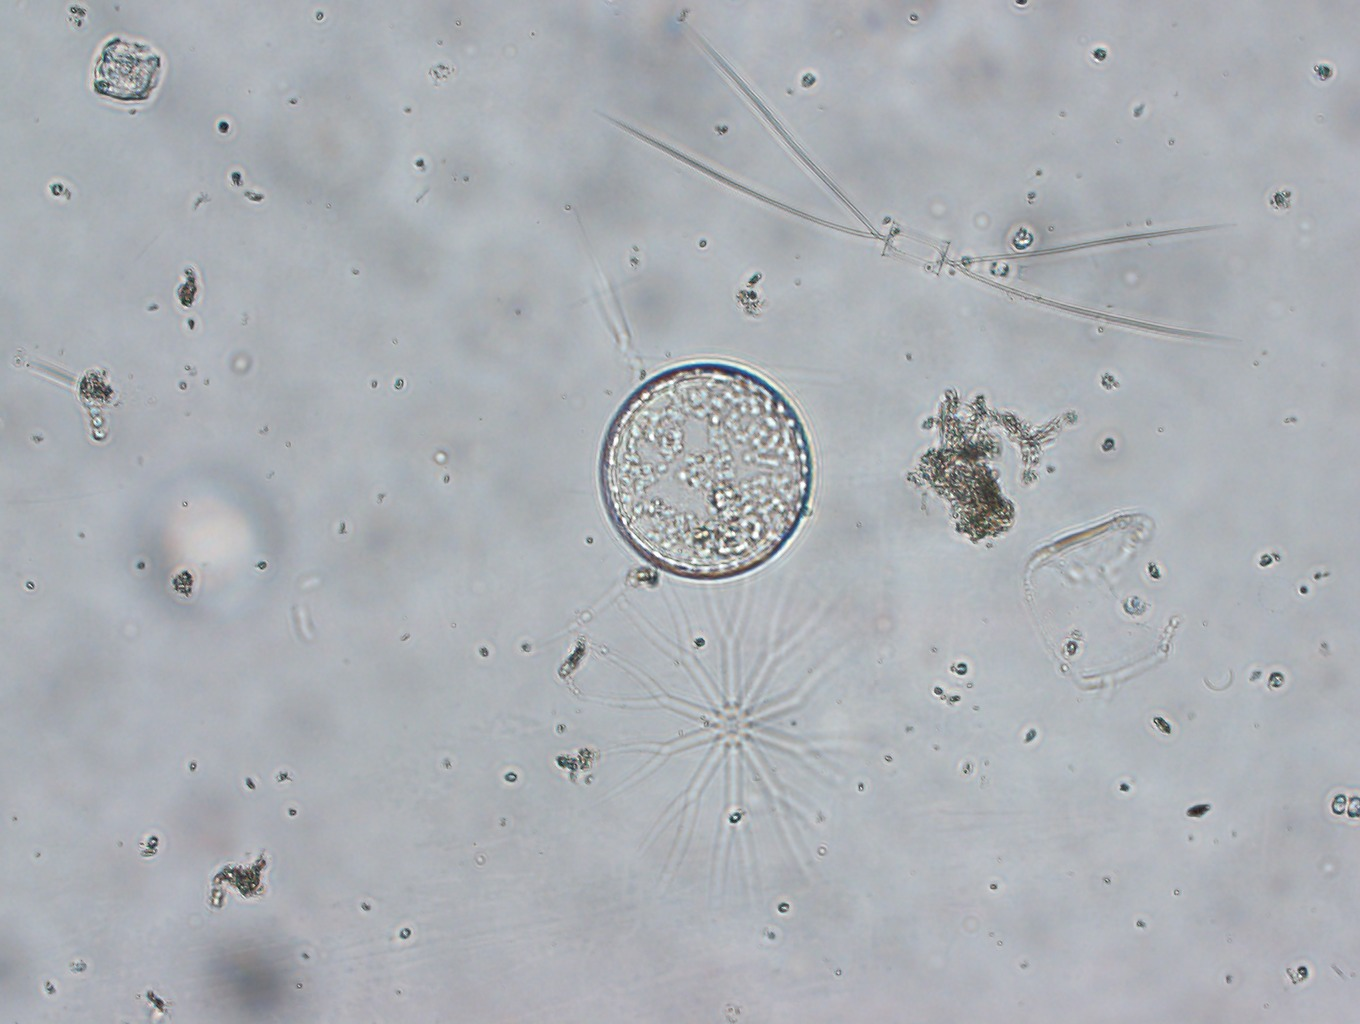bacteriastrum: (553, 551, 894, 904)
chaetoceros: (590, 10, 1243, 359), (592, 352, 817, 589)
